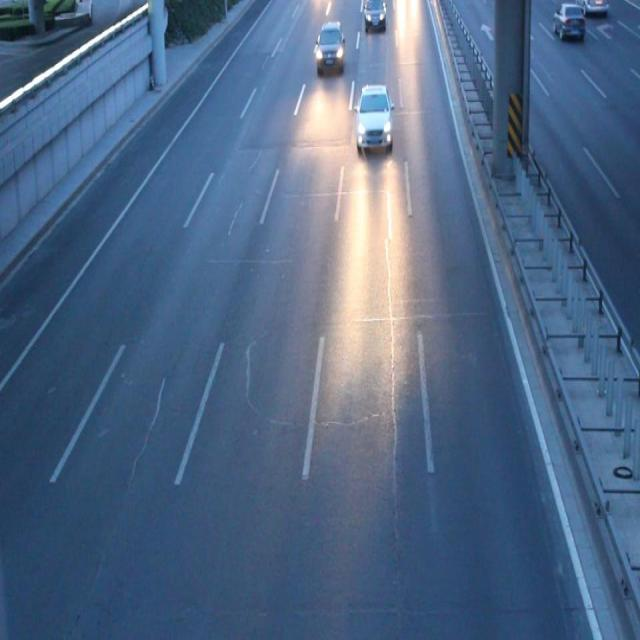car: (354, 85, 391, 152), (314, 23, 344, 73), (363, 1, 386, 32)
